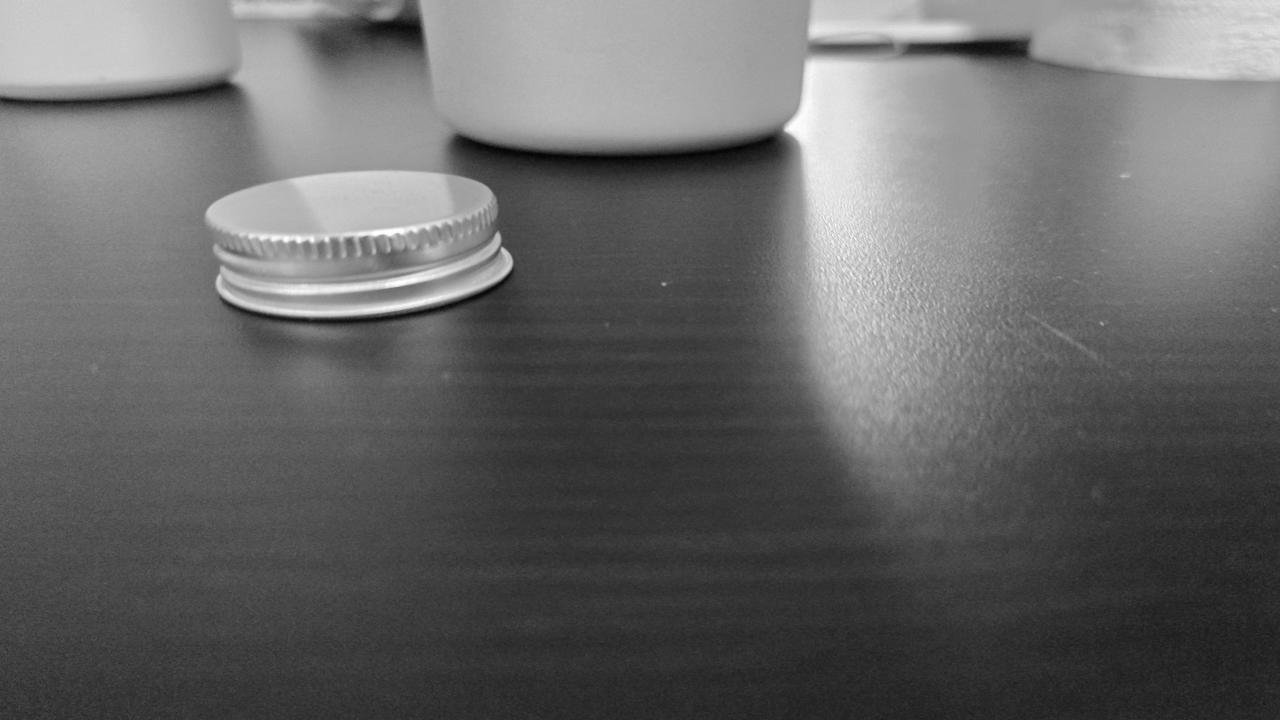bottle_cap: (211, 179, 517, 318)
